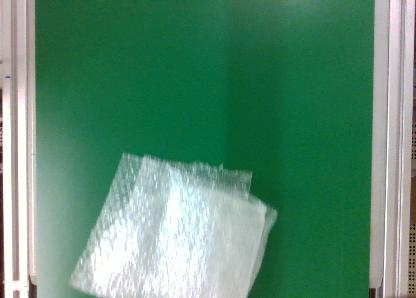Others: (66, 153, 277, 298)
